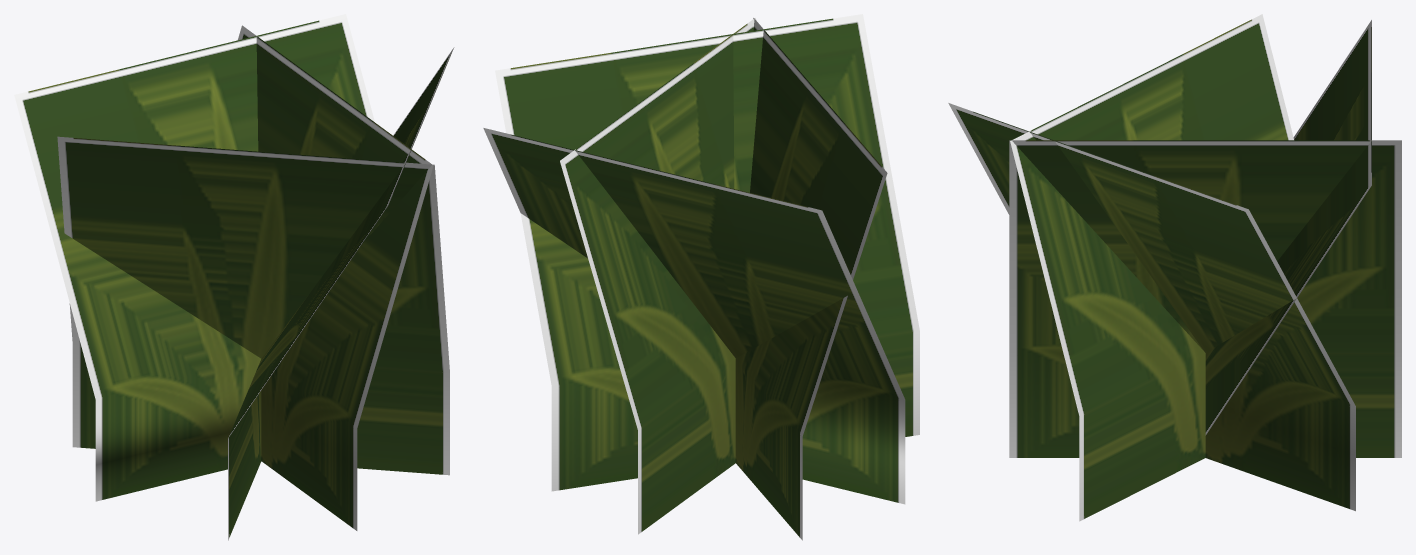
The model's file is Shrub-2.FBX.
3 views of the same model, side by side, from view 1: azimuth 30°, elevation 25°; view 2: azimuth 150°, elevation 25°; view 3: azimuth 270°, elevation 25° (orthographic). The views are drawn at different scales.
Visible parts, largest first — view 1: Shrub-2; view 2: Shrub-2; view 3: Shrub-2.
Part boxes in pixels (x1,y1,x2,y2): Shrub-2: (14, 14, 454, 540); Shrub-2: (483, 14, 919, 540); Shrub-2: (948, 14, 1401, 521).
Bounding box in the file's own units: 27.87 × 23.67 × 27.36.
